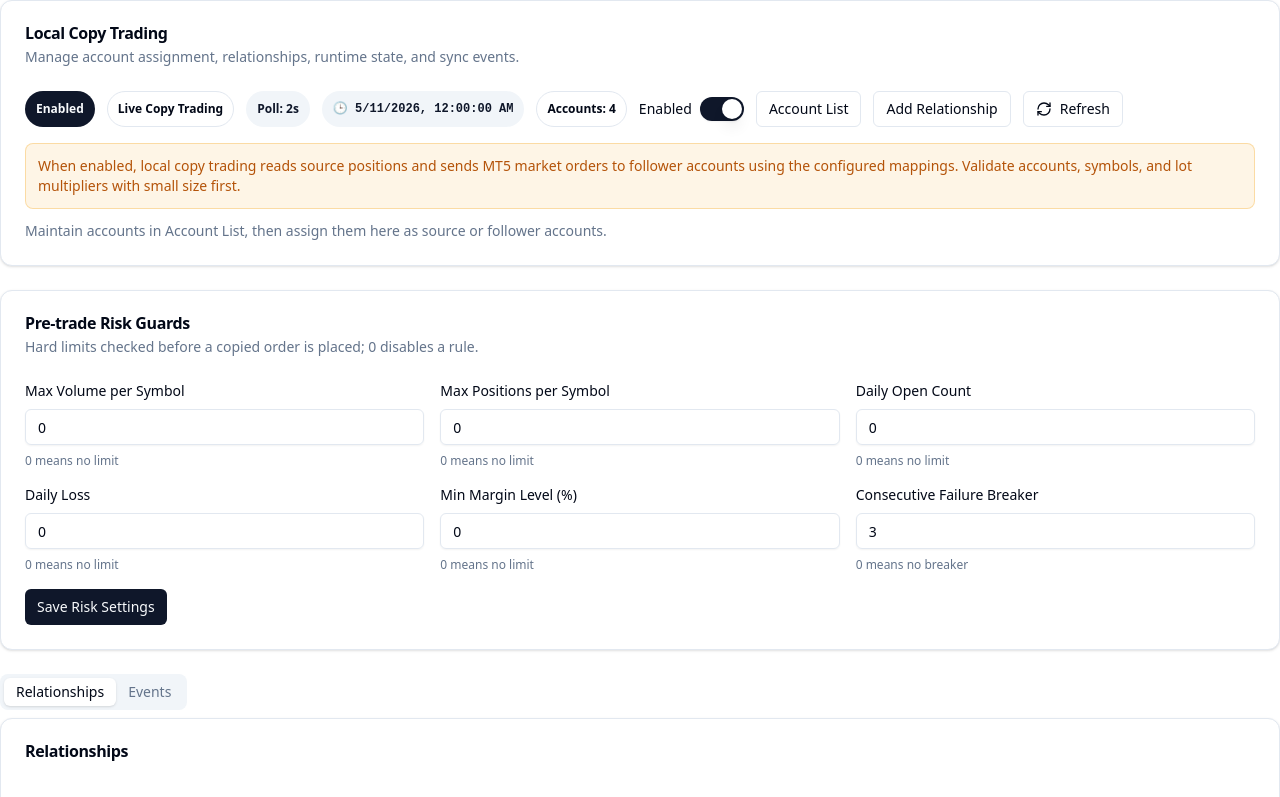
Scenario: Local Copy Trading Page › allows closing the relationship dialog without completing the form and resets partial input
Step 1. Click the button "Add Relationship" → (942, 109), box left=874, top=91, right=1011, bottom=127
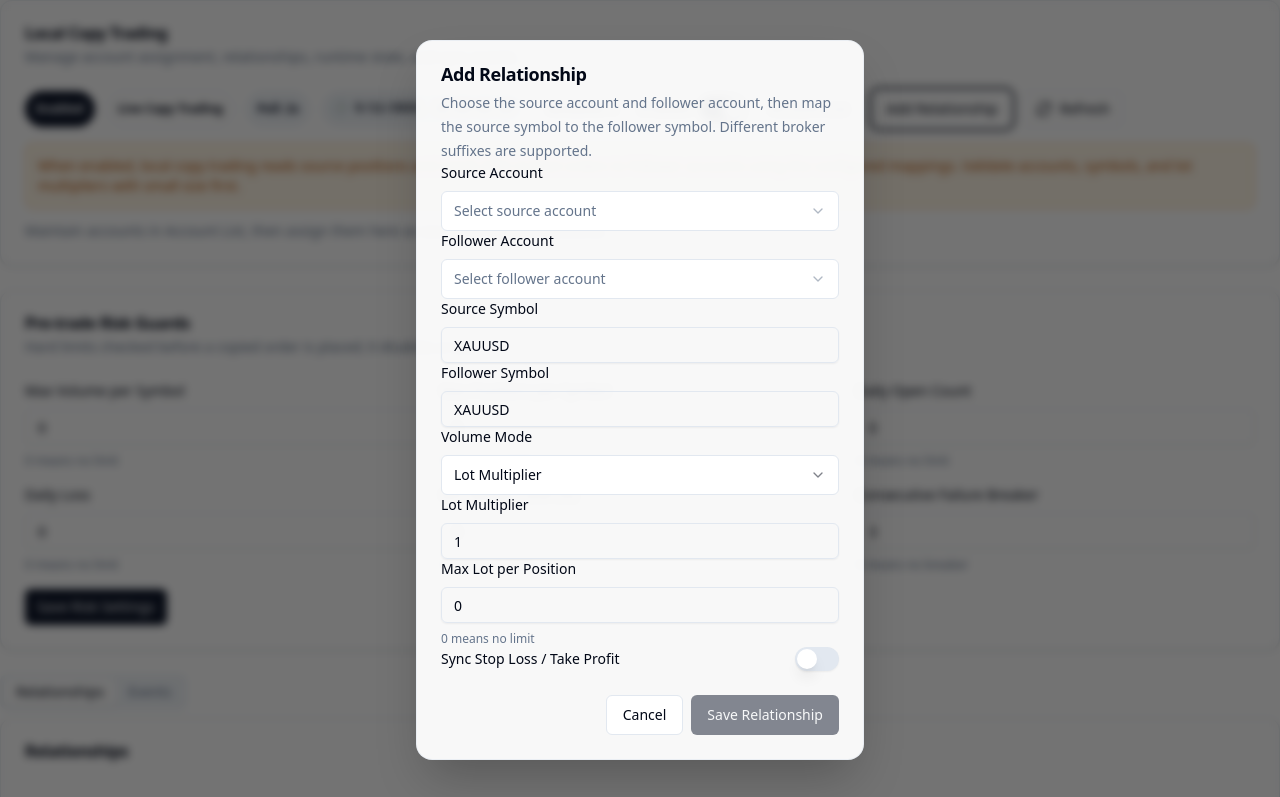
Step 2. Replace the text in the field labelled "Follower Symbol" with "XAUUSD.PRO" → (640, 409), box left=441, top=391, right=839, bottom=427
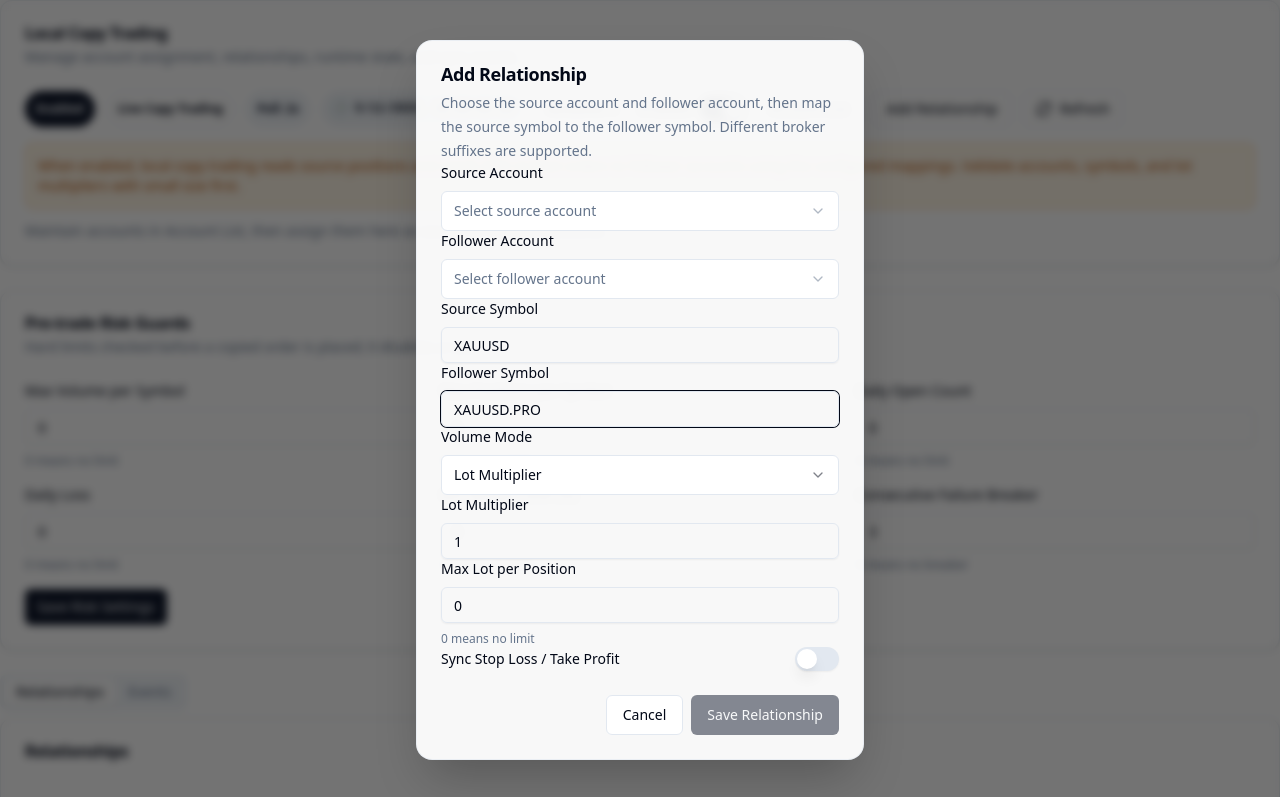
Step 3. Click the button "Cancel" → (645, 715), box left=606, top=695, right=683, bottom=735
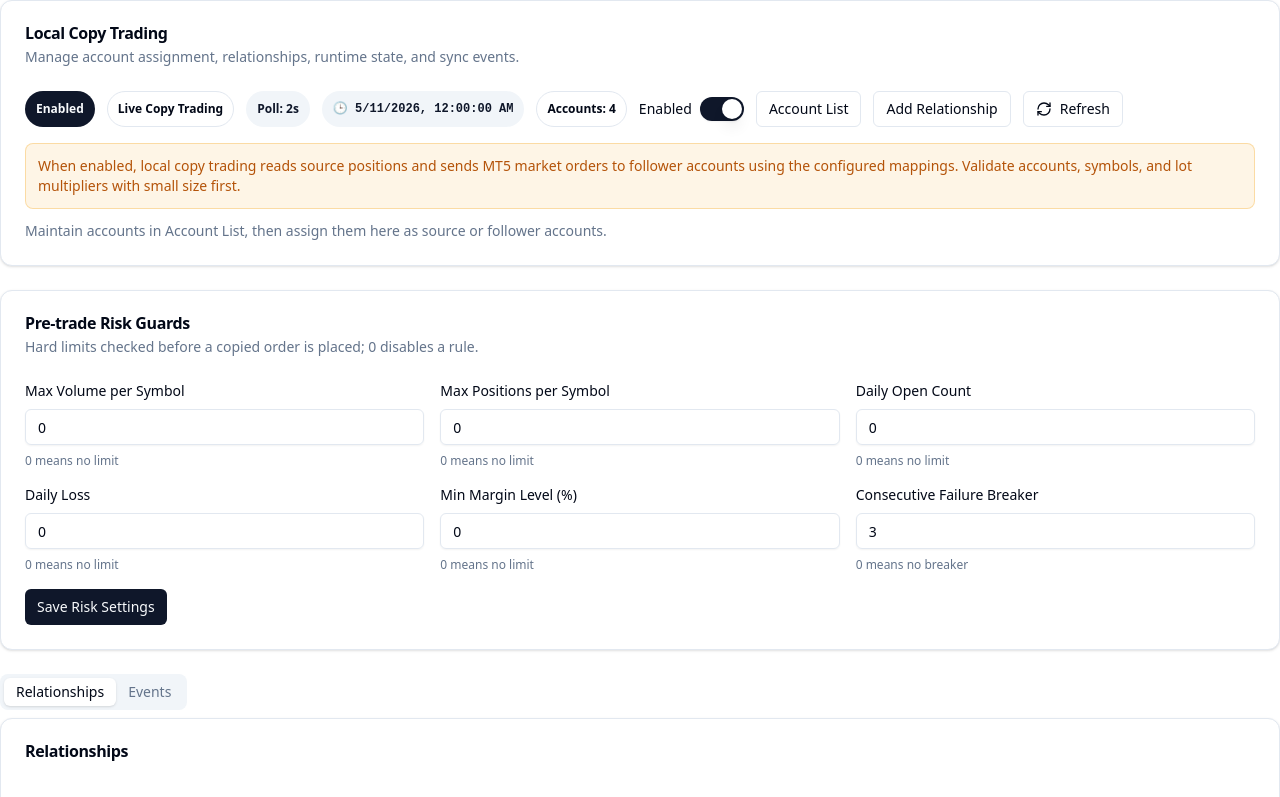
Step 4. Click the button "Add Relationship" → (942, 109), box left=874, top=91, right=1011, bottom=127
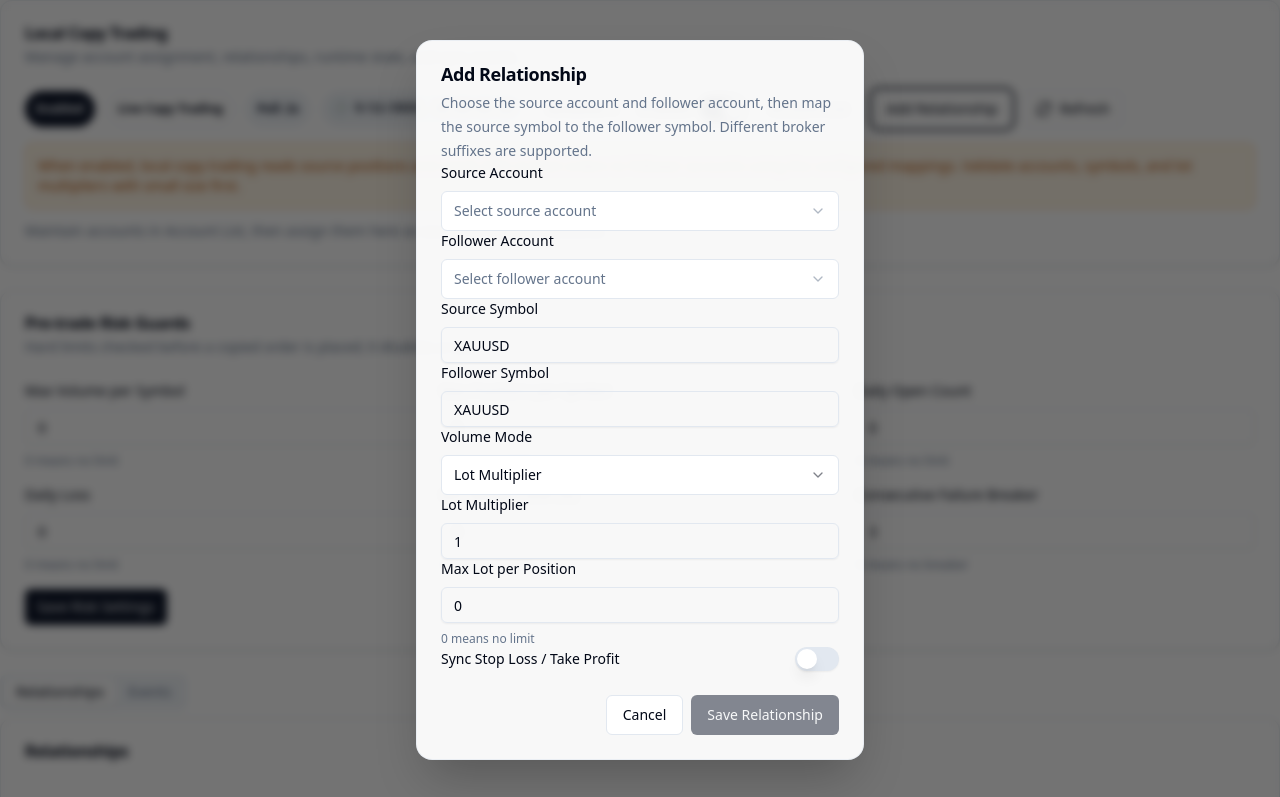
expect the field labelled "Follower Symbol" holds "XAUUSD": met, box left=441, top=391, right=839, bottom=427
